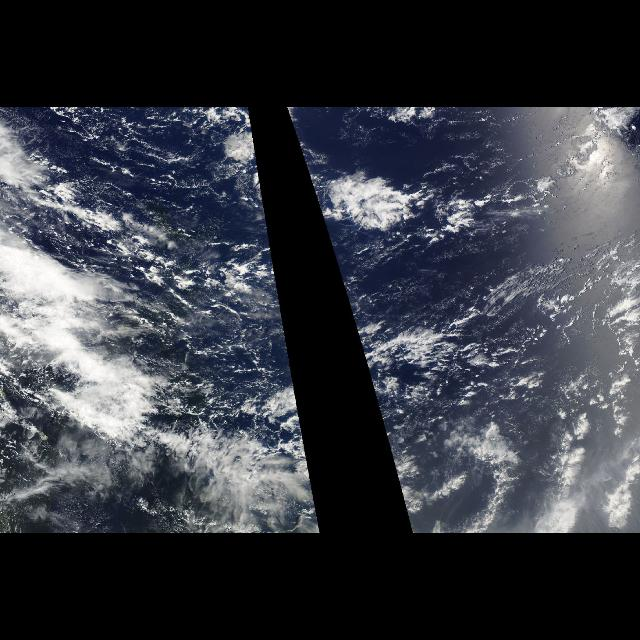Fish: (348, 300, 480, 430), (256, 300, 304, 430)
